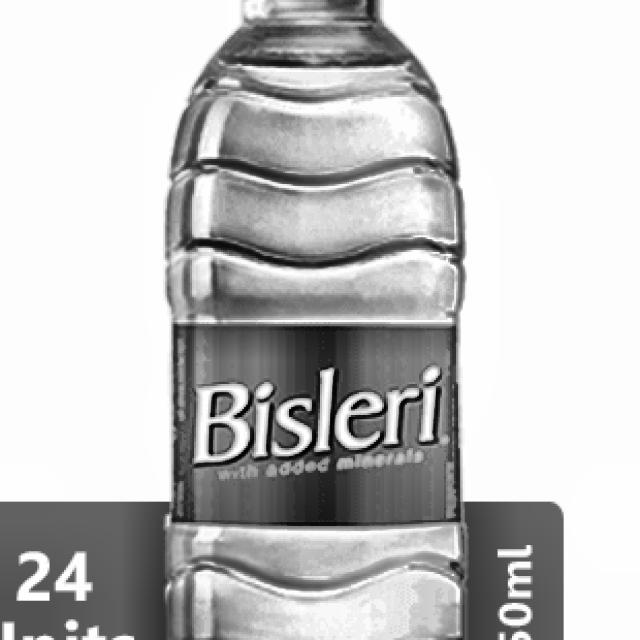bottle: (165, 0, 467, 640)
